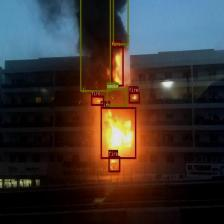fire: (101, 106, 136, 158), (111, 46, 123, 86), (108, 156, 120, 172), (128, 92, 140, 103), (91, 96, 104, 106)
smoke: (79, 0, 110, 91), (112, 0, 128, 44), (106, 88, 127, 106)
